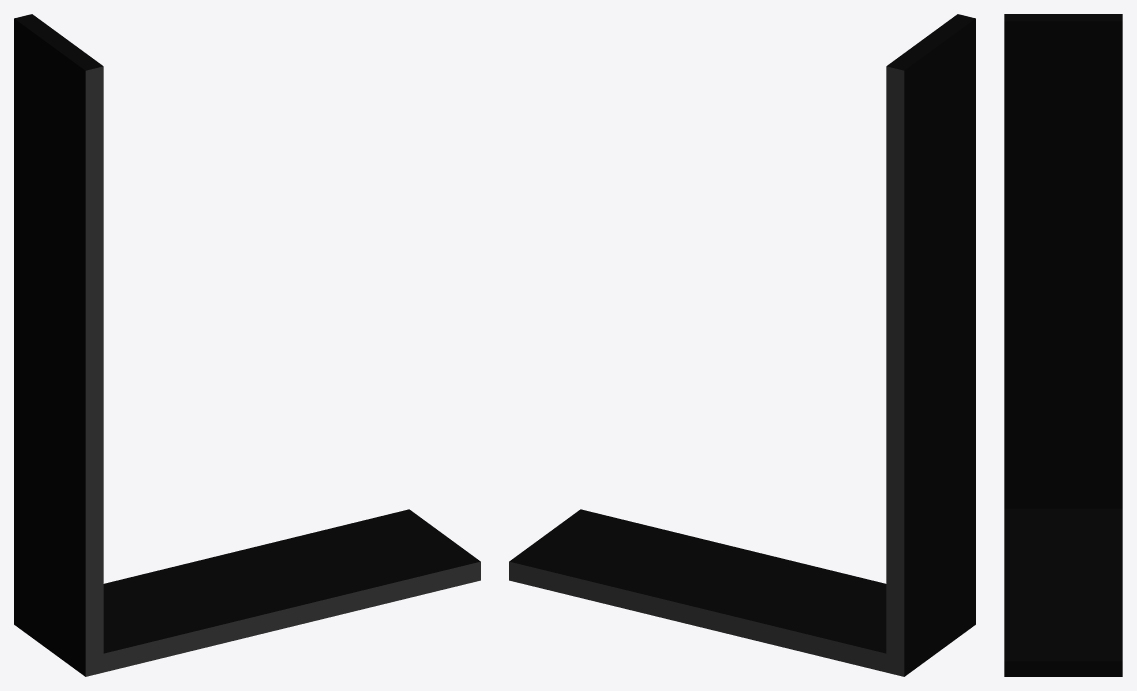
The model's file is abe15f18-0d6d-4358-a294-1401c8853a8d.glb.
3 views of the same model, side by side, from view 1: azimuth 30°, elevation 25°; view 2: azimuth 150°, elevation 25°; view 3: azimuth 270°, elevation 25° (orthographic). The views are drawn at different scales.
Parts seen in each view (by area): view 1: l_AlphaProta_Black; view 2: l_AlphaProta_Black; view 3: l_AlphaProta_Black.
Part boxes in pixels (box(x1,y1,x2,y2)): l_AlphaProta_Black: box(14, 14, 480, 676); l_AlphaProta_Black: box(509, 14, 975, 676); l_AlphaProta_Black: box(1004, 14, 1122, 676).
Size of what is drawn, in the model's own units: 0.1436 by 0.2105 by 0.045.
Materials: 2 (2 with a texture image).
